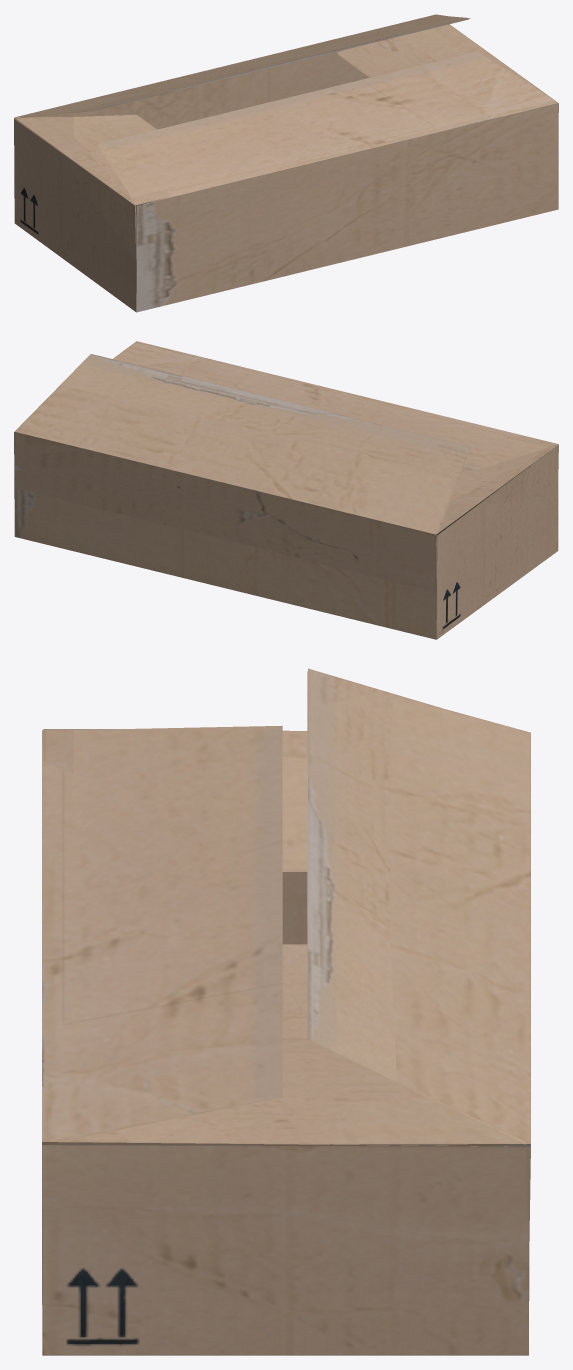
The picture shows the model from 3 angles, top to bottom: view 1: azimuth 30°, elevation 25°; view 2: azimuth 150°, elevation 25°; view 3: azimuth 270°, elevation 25°; orthographic projection. The views are drawn at different scales.
Visible parts, largest first — view 1: Box bit open; view 2: Box bit open; view 3: Box bit open.
Part boxes in pixels (x1=…): Box bit open: x1=14, y1=14, x2=558, y2=312; Box bit open: x1=14, y1=341, x2=558, y2=639; Box bit open: x1=42, y1=668, x2=530, y2=1355.
Size of the model in its own units: 0.6 by 0.2 by 0.3.
Materials: 1 (1 with a texture image).
